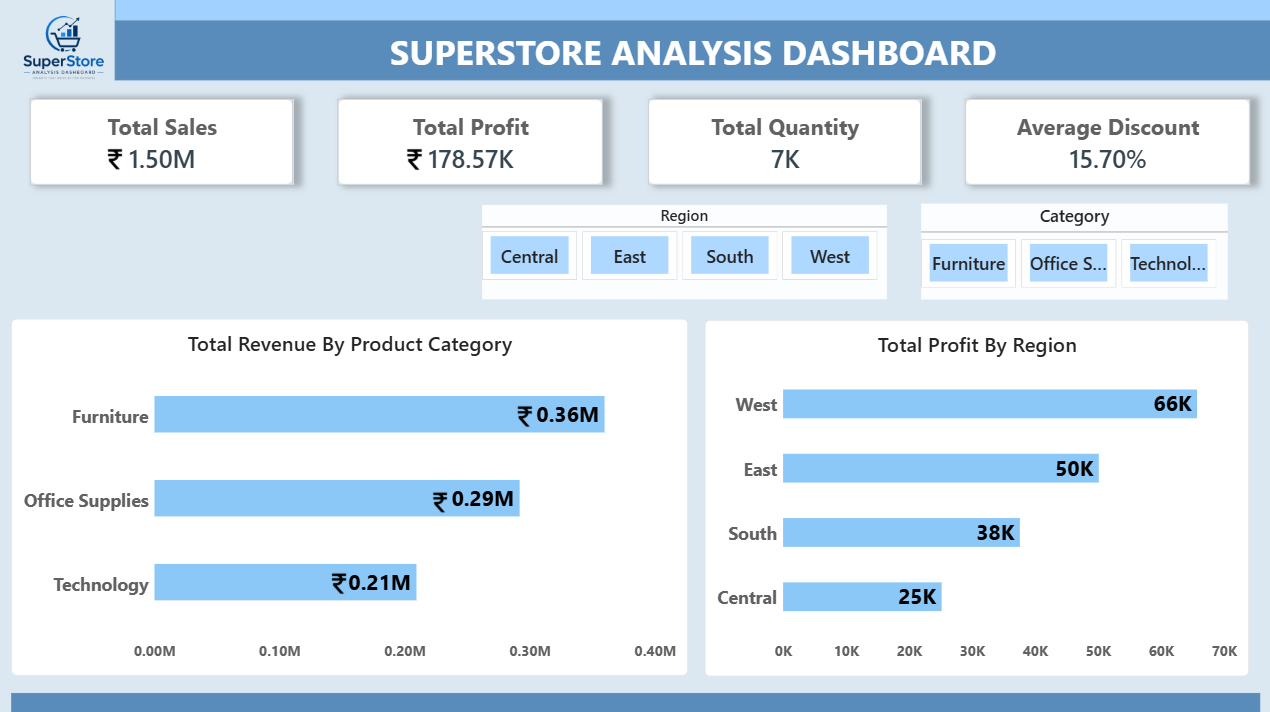

This screenshot's page, from the dashboard's own definition file:
{"tool":"powerbi","page":{"name":"Page 1","canvas":[1920,1080],"ordinal":0},"visuals":[{"type":"cardVisual","fields":{"Data":["Sum(Sample - Superstore.Sales)"]},"box":[47.5,150,397.5,130],"z":0},{"type":"shape","box":[175,32.5,1745,90],"z":1000},{"type":"cardVisual","fields":{"Data":["Sum(Sample - Superstore.Profit)"]},"box":[512.5,150,400,130],"z":2000},{"type":"cardVisual","fields":{"Data":["Avg(Sample - Superstore.Discount)"]},"box":[1457.5,150,430,130],"z":3000},{"type":"cardVisual","fields":{"Data":["CountNonNull(Sample - Superstore.Quantity)"]},"box":[980,150,412.5,130],"z":4000},{"type":"clusteredBarChart","title":"Total Revenue By Product Category","fields":{"Category":["Sample - Superstore.Category"],"Y":["Sum(Sample - Superstore.Sales)"]},"box":[20,482.5,1020,537.5],"z":5000},{"type":"clusteredBarChart","title":"Total Profit By Region","fields":{"Category":["Sample - Superstore.Region"],"Y":["Sum(Sample - Superstore.Profit)"]},"box":[1066.7,483.3,820,536.7],"z":6000},{"type":"shape","box":[175,0,1745,32.5],"z":7000},{"type":"advancedSlicerVisual","fields":{"Values":["Sample - Superstore.Region"]},"box":[730,310,610,142.5],"z":8000},{"type":"shape","box":[20,1046.7,1883.3,33.3],"z":9000},{"type":"advancedSlicerVisual","fields":{"Values":["Sample - Superstore.Category"]},"box":[1392.5,307.5,462.5,145],"z":10000},{"type":"image","box":[0,0,197.5,147.5],"z":11000}]}

Visuals, with their boxes in screenshot pixels (x1, y1, x2, y2), scaled from the page's 1920x1080 canvas onto the 1270x712 screenshot:
cardVisual - Sum(Sample - Superstore.Sales): region(31, 99, 294, 185)
shape: region(116, 21, 1269, 81)
cardVisual - Sum(Sample - Superstore.Profit): region(339, 99, 604, 185)
cardVisual - Avg(Sample - Superstore.Discount): region(964, 99, 1249, 185)
cardVisual - CountNonNull(Sample - Superstore.Quantity): region(648, 99, 921, 185)
"Total Revenue By Product Category" clusteredBarChart: region(13, 318, 688, 672)
"Total Profit By Region" clusteredBarChart: region(706, 319, 1248, 672)
shape: region(116, 0, 1269, 21)
advancedSlicerVisual - Sample - Superstore.Region: region(483, 204, 886, 298)
shape: region(13, 690, 1259, 711)
advancedSlicerVisual - Sample - Superstore.Category: region(921, 203, 1227, 298)
image: region(0, 0, 131, 97)
